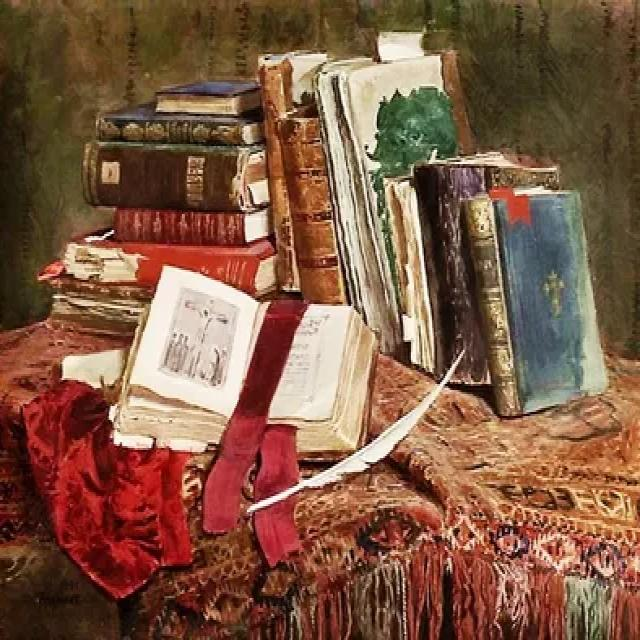book: (99, 267, 396, 486)
